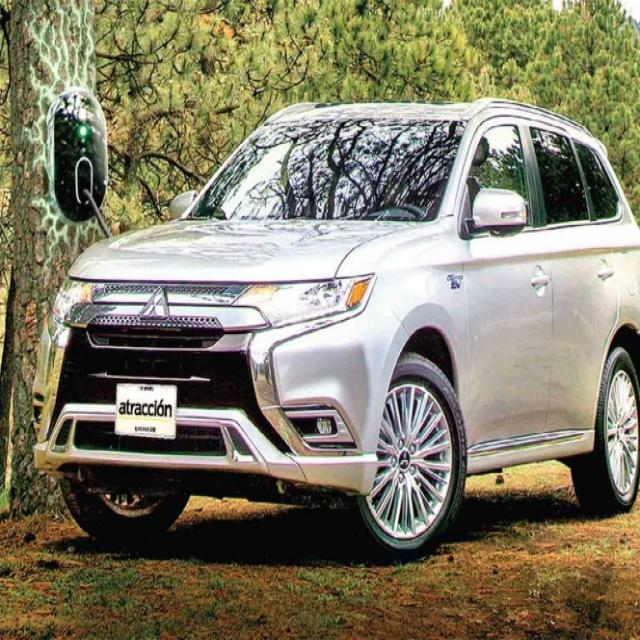light_vehicle: (31, 97, 640, 561)
